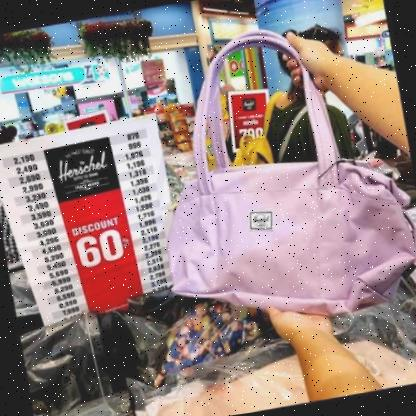bag: (129, 1, 416, 354)
